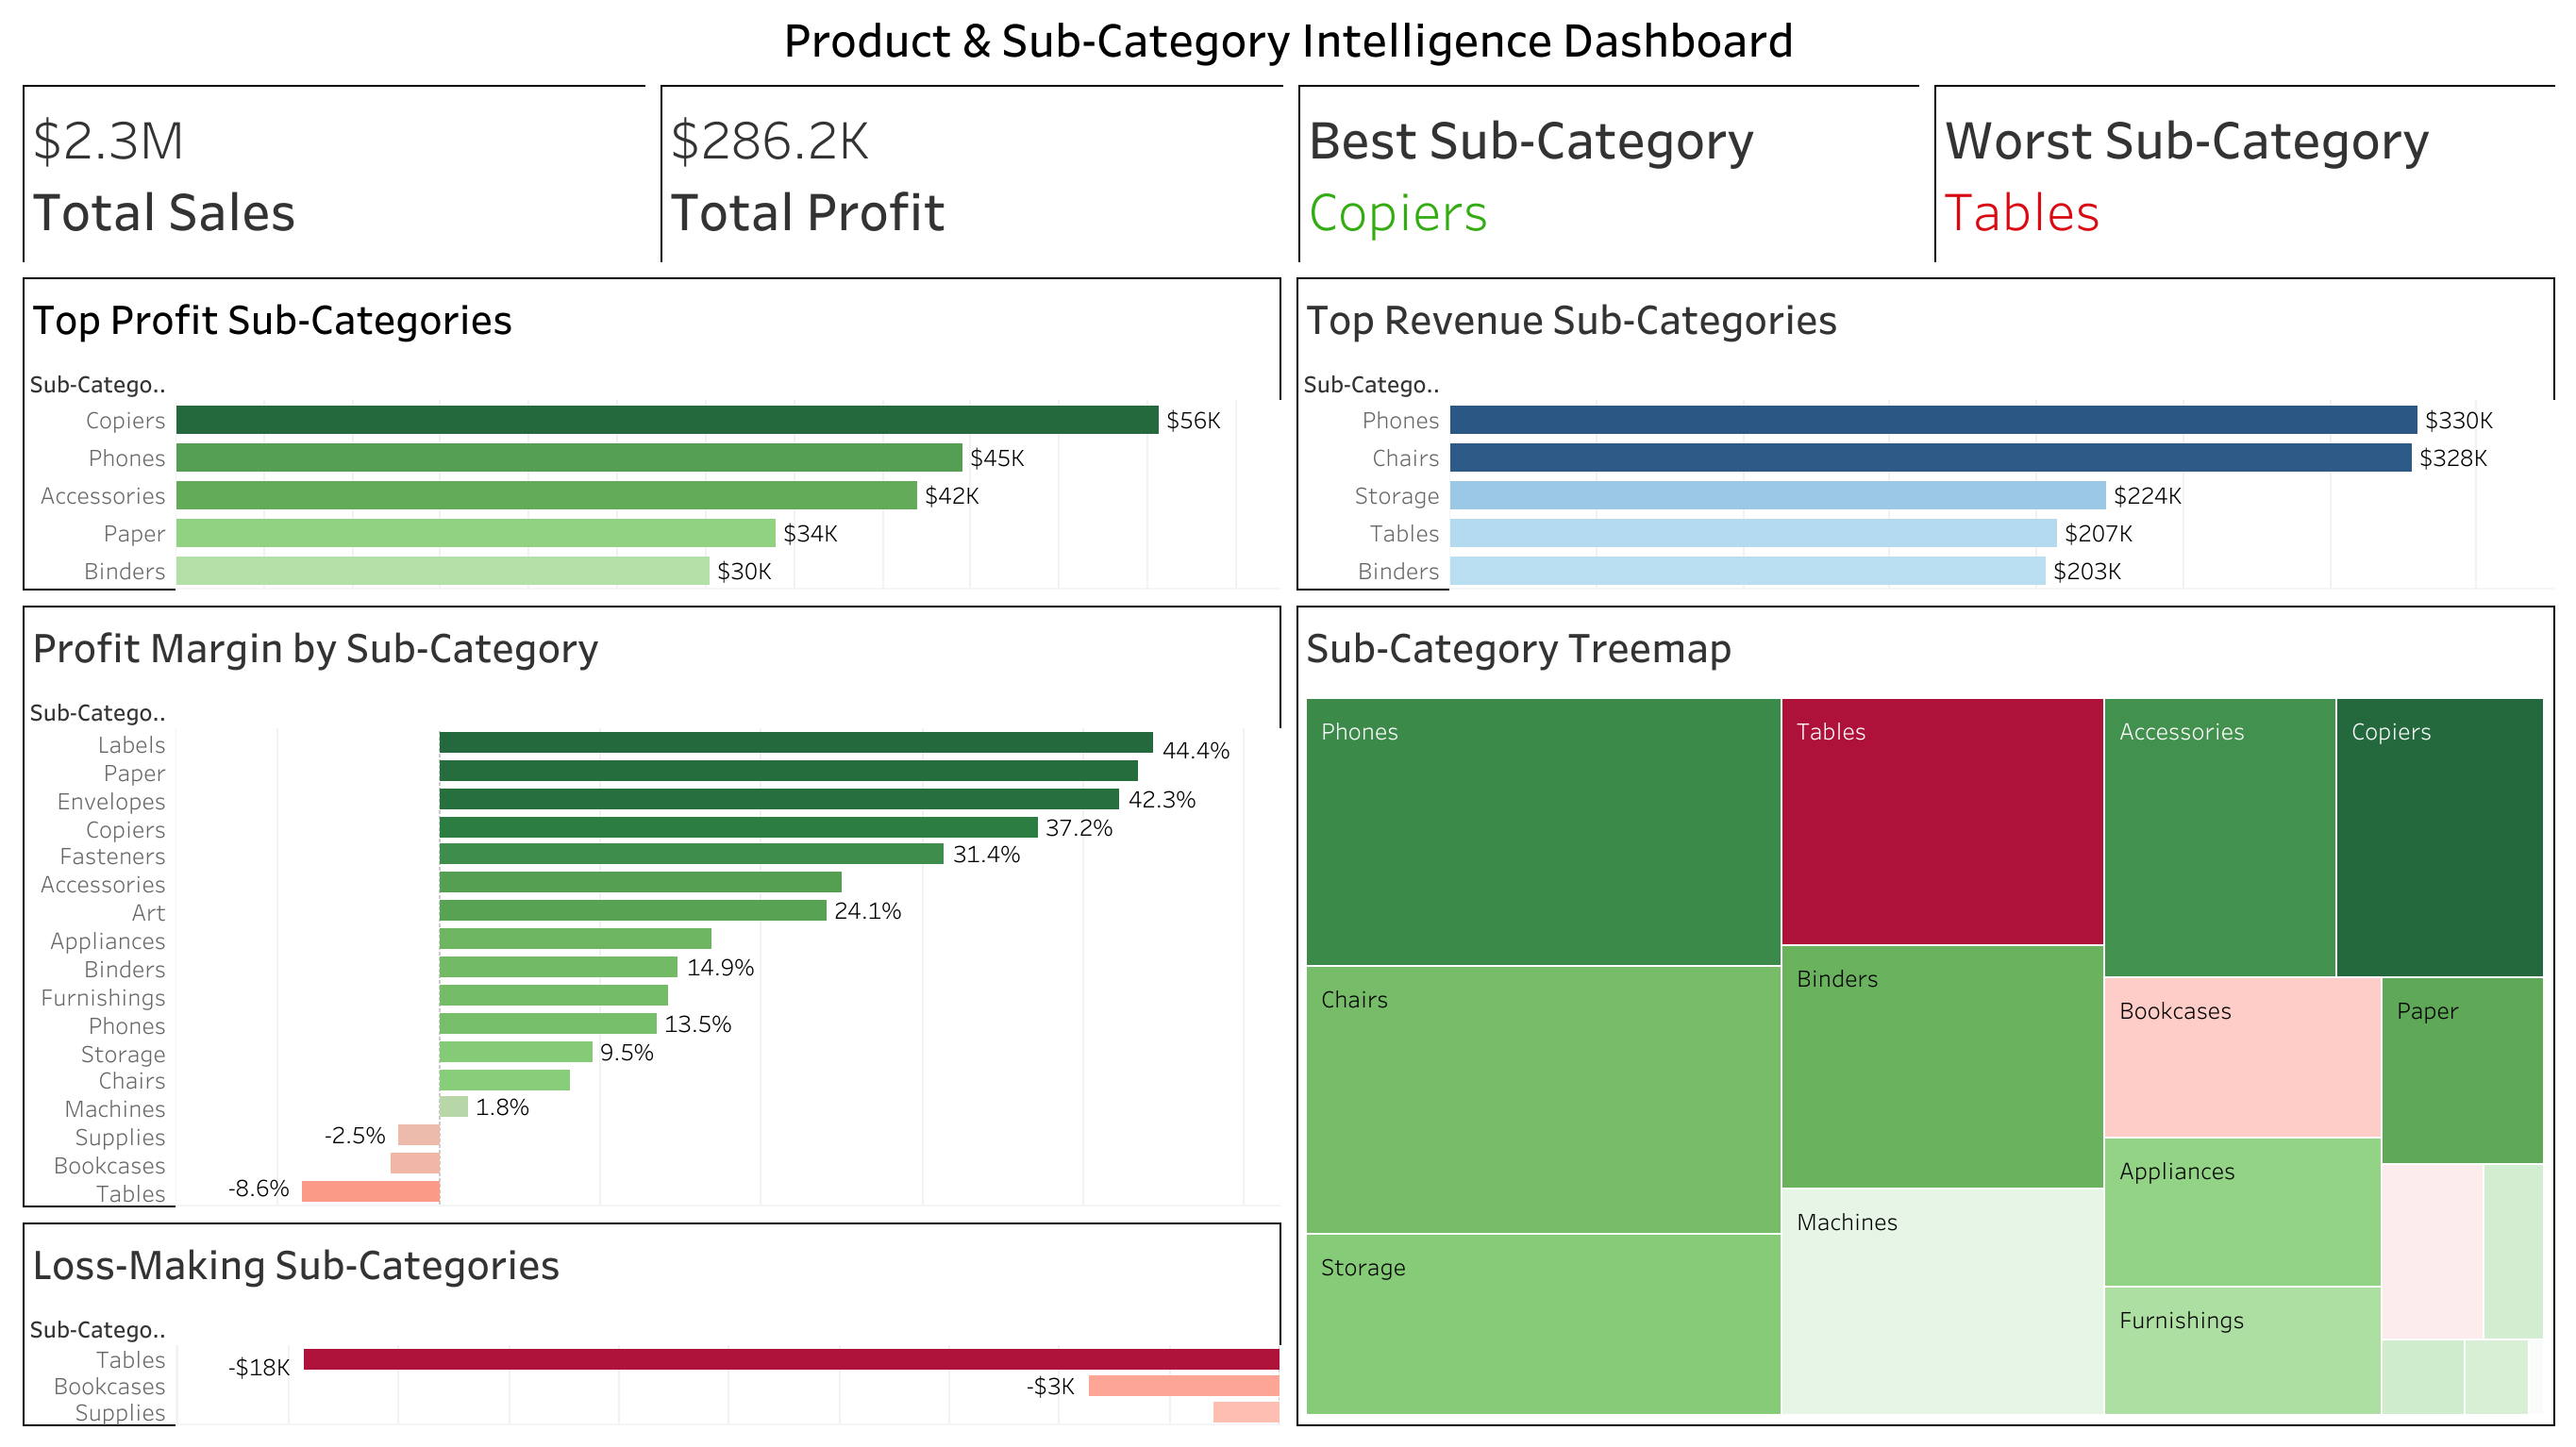

The dashboard page shown, as its layout file describes it:
{"tool":"tableau","page":{"name":"Product & Sub-Category Intelligence Dashboard","canvas":[1366,768],"ordinal":2},"visuals":[{"type":"text","box":[8,8,1350,33]},{"type":"worksheet","title":"KPI - Total Sales","mark":"Automatic","box":[8,41,338,96]},{"type":"worksheet","title":"KPI - Total Profit","mark":"Automatic","box":[346,41,338,96]},{"type":"worksheet","title":"KPI - Best Sub-Category","mark":"Automatic","rows":["Sub-Category"],"box":[684,41,337,96]},{"type":"worksheet","title":"KPI - Worst Sub-Category","mark":"Automatic","rows":["Sub-Category"],"box":[1021,41,337,96]},{"type":"worksheet","title":"Top 5 Sub-Categories by Profit","mark":"Automatic","rows":["Sub-Category"],"cols":["Profit"],"box":[8,137,675,174]},{"type":"worksheet","title":"Top 5 Sub-Categories by Sales","mark":"Automatic","rows":["Sub-Category"],"cols":["Sales"],"box":[683,137,675,174]},{"type":"worksheet","title":"Profit Margin by Sub-Category","mark":"Automatic","rows":["Sub-Category"],"cols":["Calculation_2353651724660736"],"box":[8,311,631,327]},{"type":"worksheet","title":"Sub-Category Treemap","mark":"Automatic","box":[639,311,719,449]},{"type":"worksheet","title":"Bottom Sub-Categories by Profit","mark":"Automatic","rows":["Sub-Category"],"cols":["Profit"],"box":[8,638,631,122]}]}

Visuals, with their boxes in screenshot pixels (x1, y1, x2, y2), scaled from the page's 1366x768 canvas onto the 2576x1447 screenshot:
text: (left=15, top=15, right=2561, bottom=77)
"KPI - Total Sales" worksheet: (left=15, top=77, right=652, bottom=258)
"KPI - Total Profit" worksheet: (left=652, top=77, right=1290, bottom=258)
"KPI - Best Sub-Category" worksheet: (left=1290, top=77, right=1926, bottom=258)
"KPI - Worst Sub-Category" worksheet: (left=1926, top=77, right=2561, bottom=258)
"Top 5 Sub-Categories by Profit" worksheet: (left=15, top=258, right=1288, bottom=586)
"Top 5 Sub-Categories by Sales" worksheet: (left=1288, top=258, right=2561, bottom=586)
"Profit Margin by Sub-Category" worksheet: (left=15, top=586, right=1205, bottom=1202)
"Sub-Category Treemap" worksheet: (left=1205, top=586, right=2561, bottom=1432)
"Bottom Sub-Categories by Profit" worksheet: (left=15, top=1202, right=1205, bottom=1432)
